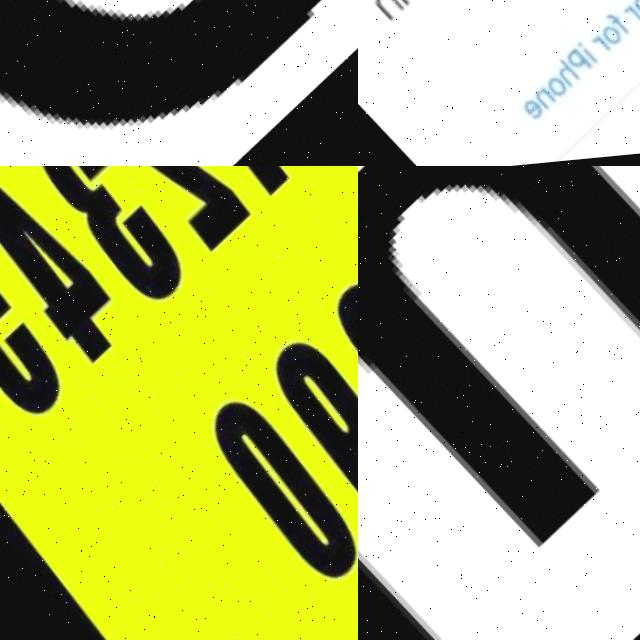0: (149, 354, 358, 618)
1: (115, 166, 322, 222)
2: (51, 166, 270, 274)
3: (0, 166, 212, 329)
4: (0, 166, 159, 395)
5: (0, 191, 96, 441)
8: (284, 249, 358, 508)
9: (213, 302, 358, 572)
E: (506, 100, 534, 129), (617, 0, 640, 28)
F: (595, 15, 621, 45), (532, 79, 557, 105)
H: (539, 62, 569, 95)
I: (565, 46, 586, 73), (371, 0, 401, 11)
M: (358, 166, 640, 640)
N: (358, 0, 397, 26), (519, 89, 546, 117)
O: (586, 28, 613, 56)
P: (551, 51, 583, 85)
R: (613, 11, 633, 33), (580, 40, 600, 62)
T: (627, 0, 640, 15)
